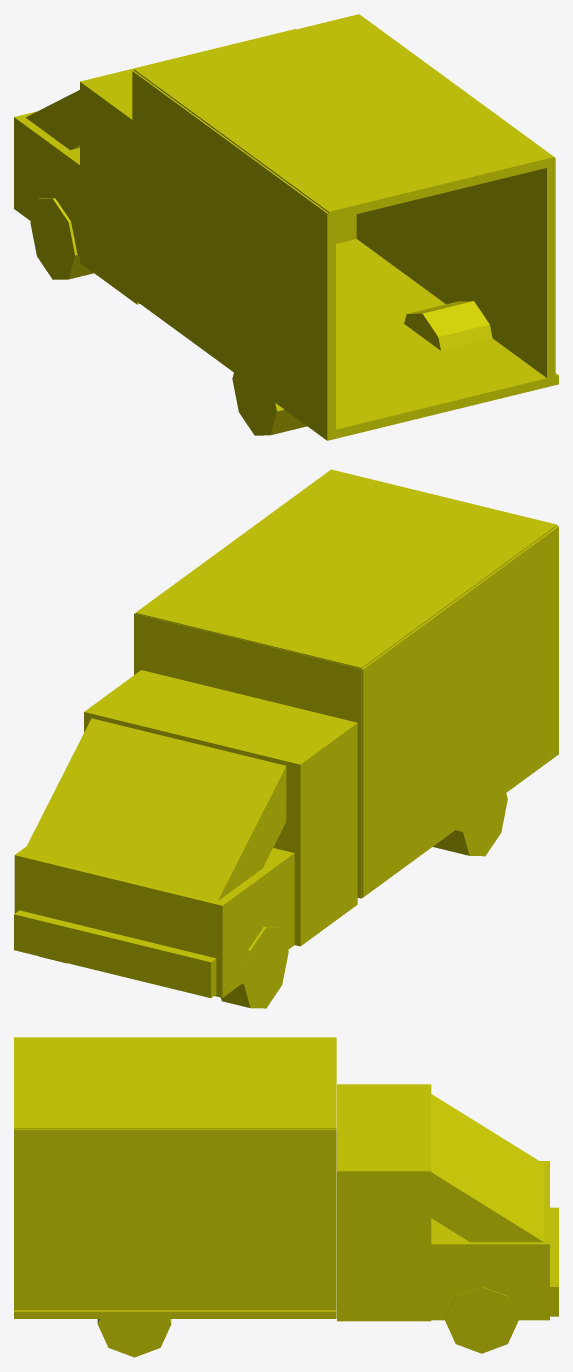
File: archivetruck-collider.dae
3 renders of one model, top to bottom at view 1: azimuth 30°, elevation 25°; view 2: azimuth 150°, elevation 25°; view 3: azimuth 270°, elevation 25°, orthographic. The views are drawn at different scales.
Parts seen in each view (by area): view 1: Cube_007, Cube_004, Cube_008, Cube_006, Cube_010, Cube_011, Cylinder_006, Cylinder_004, Cylinder, Cube_013, Cube_009; view 2: Cube_007, Cube_004, Cube_013, Cube_010, Cube_011, Cube_009, Cube_012, Cylinder_006, Cylinder; view 3: Cube_008, Cube_004, Cube_010, Cube_013, Cube_011, Cylinder_005, Cylinder_004, Cube_006, Cube_012.
Part boxes in pixels (x1,y1,x2,y2): Cube_007: (132, 70, 335, 440); Cube_004: (134, 14, 554, 220); Cube_008: (356, 157, 555, 377); Cube_006: (333, 239, 558, 439); Cube_010: (80, 29, 295, 304); Cube_011: (14, 111, 79, 256); Cylinder_006: (30, 198, 93, 279); Cylinder_004: (404, 301, 492, 350); Cylinder: (232, 373, 306, 435); Cube_013: (26, 90, 79, 150); Cube_009: (134, 70, 356, 243); Cube_007: (361, 526, 558, 897); Cube_004: (135, 469, 557, 668); Cube_013: (23, 718, 286, 901); Cube_010: (84, 670, 357, 946); Cube_011: (14, 846, 294, 997); Cube_009: (135, 613, 365, 898); Cube_012: (14, 910, 216, 997); Cylinder_006: (221, 926, 288, 1008); Cylinder: (433, 793, 507, 856); Cube_008: (14, 1129, 336, 1310); Cube_004: (14, 1037, 336, 1129); Cube_010: (337, 1084, 431, 1321); Cube_013: (431, 1094, 544, 1242); Cube_011: (431, 1161, 549, 1320); Cylinder_005: (445, 1286, 518, 1353); Cylinder_004: (97, 1290, 171, 1357); Cube_006: (14, 1310, 336, 1318); Cube_012: (550, 1207, 558, 1316).
Size of the model in its own units: 2.66 by 6.56 by 3.04.
